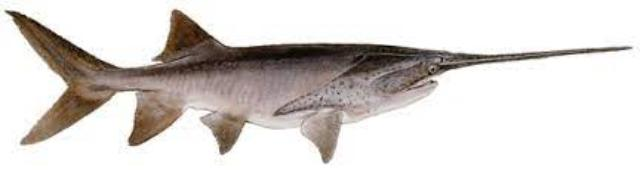Mulut: (396, 62, 460, 106)
Sirip Anal: (126, 86, 184, 150)
Sirip Dada: (269, 89, 343, 170)
Sirip Ekor: (3, 5, 112, 156)
Sirip Perut: (197, 107, 249, 159)
Sirip Punggung: (144, 4, 232, 70)
